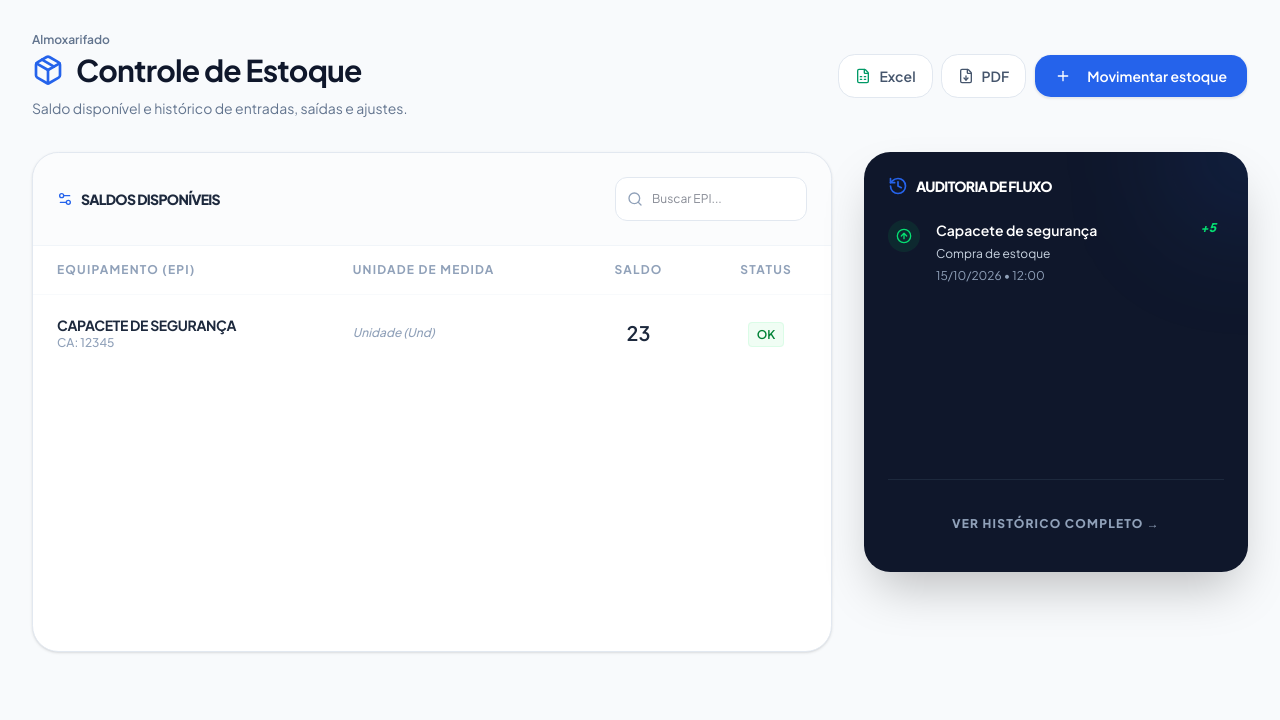
Test case: inventory rendering and recovery › keeps the export button busy until the file finishes and reports a write failure
Click the button "Excel": (885, 76) left=838, top=54, right=932, bottom=98
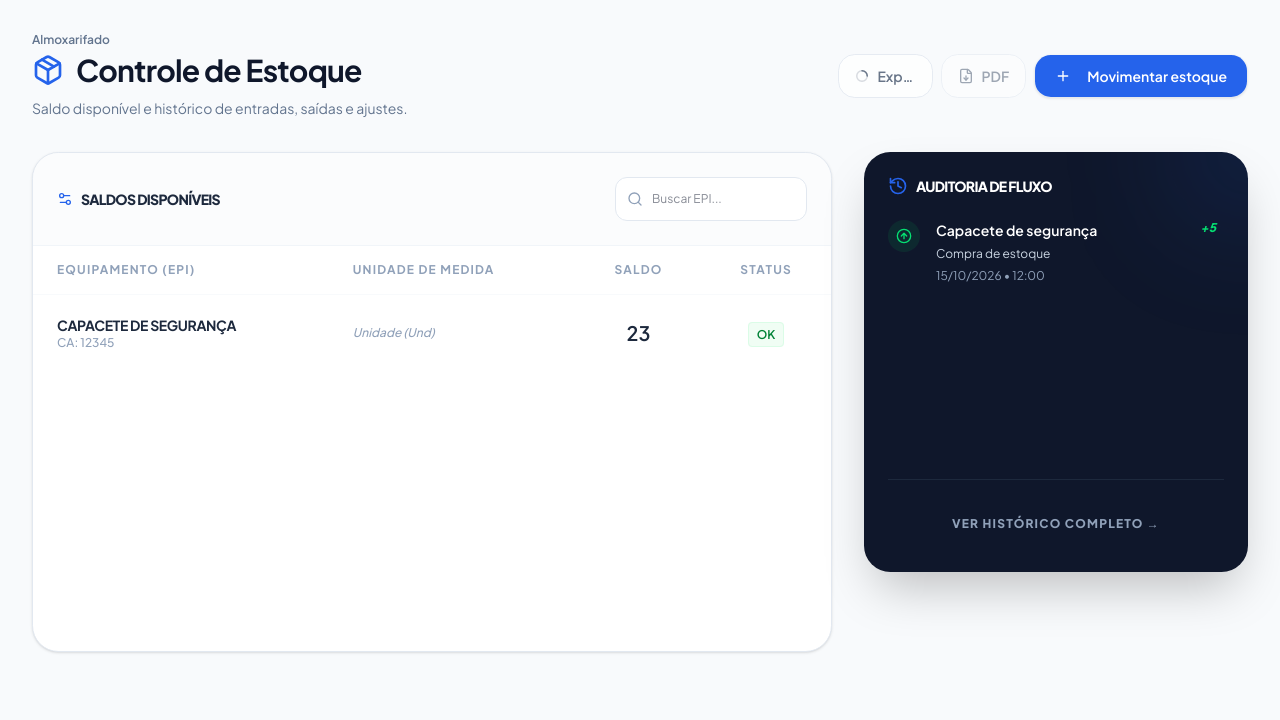
Expected: the button named "Excel" is disabled
Click the button named "Excel": (885, 76) left=838, top=54, right=932, bottom=98
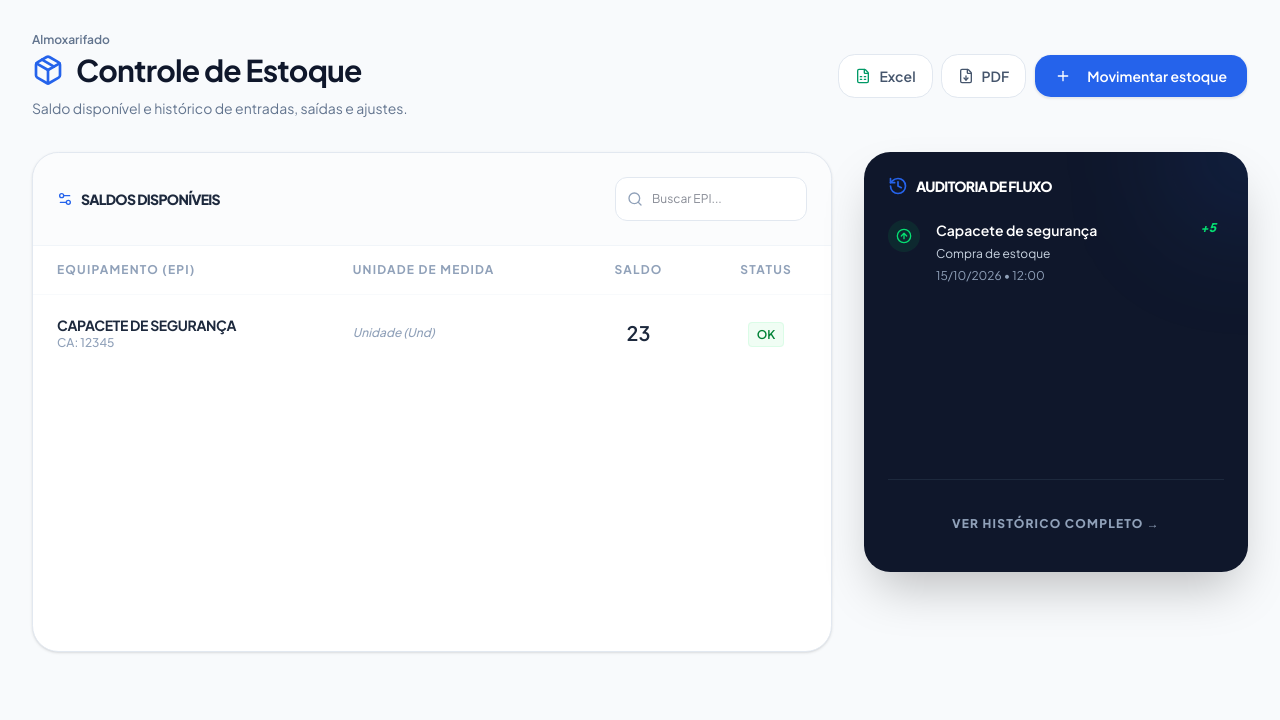
Expected: the button "Excel" is enabled, left=838, top=54, right=932, bottom=98
